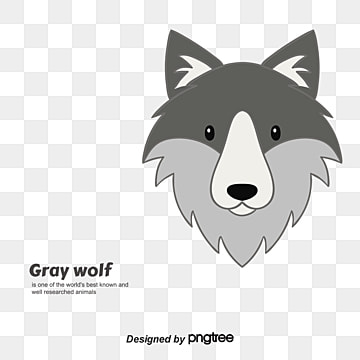Lobo: (148, 20, 348, 276)
